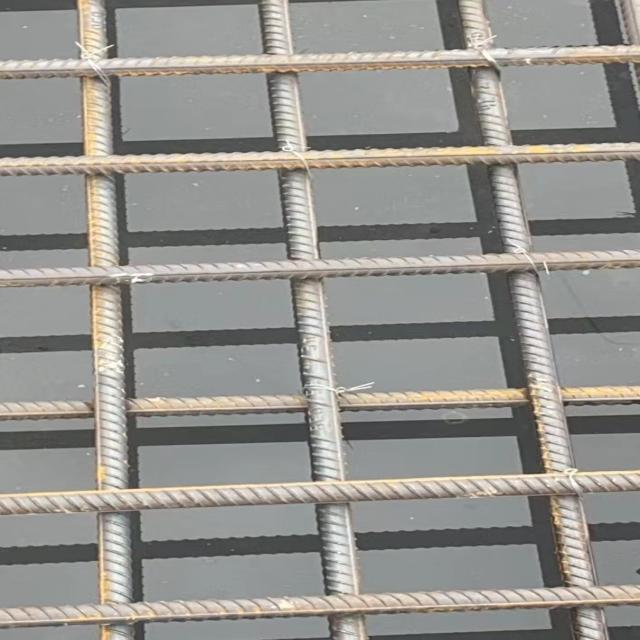ribbed bar: (453, 0, 611, 639), (255, 0, 369, 639), (79, 0, 132, 639), (0, 582, 638, 629), (0, 470, 638, 516), (0, 42, 638, 81), (0, 249, 638, 288), (0, 140, 638, 177), (0, 386, 638, 421)
